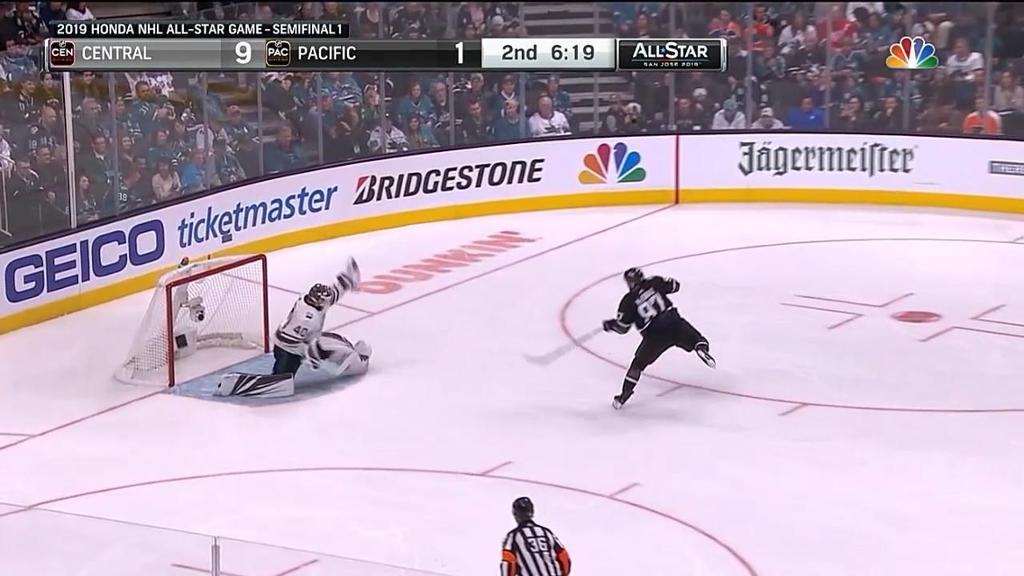geico: (7, 215, 174, 309)
